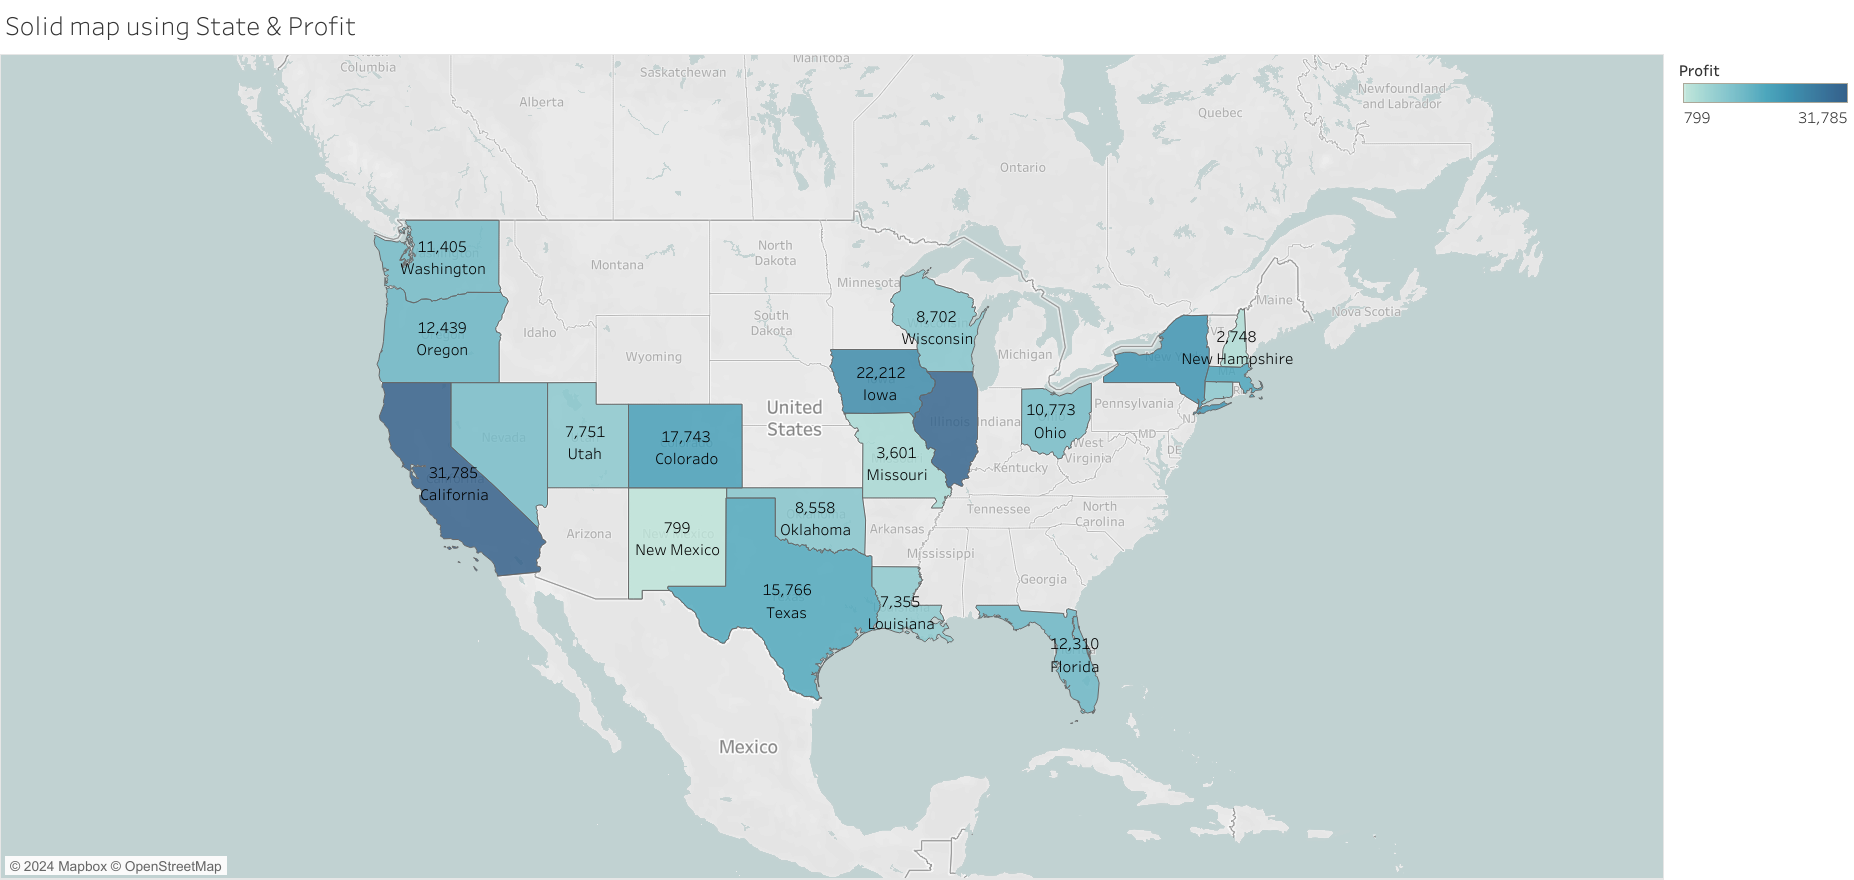

What the dashboard file says about the page in this screenshot:
{"tool":"tableau","page":{"name":"Dashboard 1","canvas":[1000,1000],"units":"permille","ordinal":0},"visuals":[{"type":"image","param":"Image/US Superstore.jpg","box":[4.8,8.2,990.3,983.5]}]}

Visuals, with their boxes on the dashboard's canvas, which has no fixed pixel size, in thousandths of its width and height (x1, y1, x2, y2). These are canvas units, not pixel positions in the 1854x880 screenshot, which may show the page scaled, cropped or inside an application window:
image: locate(5, 8, 995, 992)
